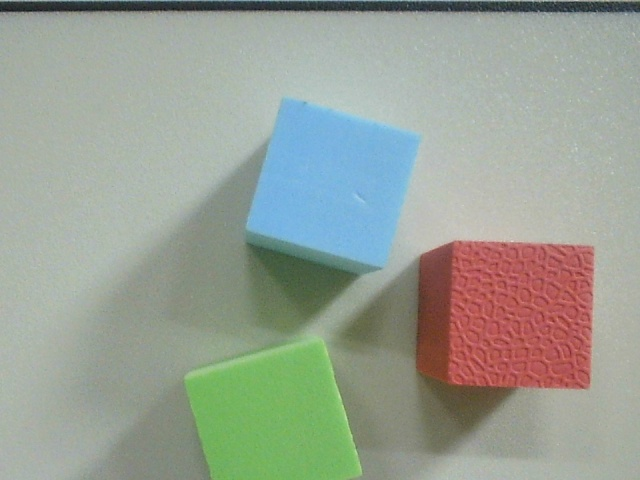greencube: (176, 336, 375, 480)
